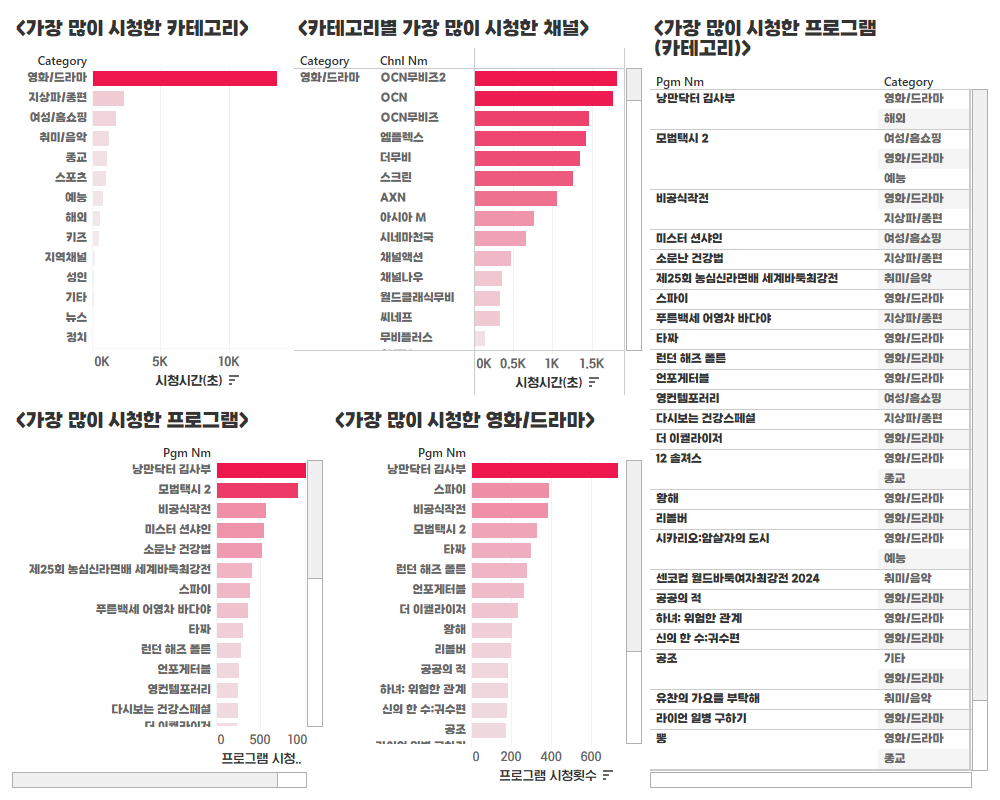

What the dashboard file says about the page in this screenshot:
{"tool":"tableau","page":{"name":"가장 많이 시청한","canvas":[1000,800],"ordinal":0},"visuals":[{"type":"worksheet","title":"가장 많이 시청한 카테고리","mark":"Automatic","rows":["category"],"cols":["chnl_nm"],"box":[8,8,281.8,392]},{"type":"worksheet","title":"가장 많이 시청한 채널","mark":"Automatic","rows":["category","chnl_nm"],"cols":["chnl_nm"],"box":[289.8,8,356.2,392]},{"type":"worksheet","title":"가장 많이 시청한 프로그램 (카테고리)","mark":"Automatic","rows":["pgm_nm","category"],"box":[646,8,346,784]},{"type":"worksheet","title":"가장 많이 시청한 프로그램","mark":"Automatic","rows":["pgm_nm"],"cols":["pgm_nm"],"box":[8,400,319,392]},{"type":"worksheet","title":"가장 많이 시청한 프로그램 (영화/드라마)","mark":"Automatic","rows":["pgm_nm"],"cols":["pgm_nm"],"box":[327,400,319,392]}]}

Visuals, with their boxes in screenshot pixels (x1, y1, x2, y2), scaled from the page's 1000x800 canvas onto the 1000x800 screenshot:
"가장 많이 시청한 카테고리" worksheet: [8, 8, 290, 400]
"가장 많이 시청한 채널" worksheet: [290, 8, 646, 400]
"가장 많이 시청한 프로그램 (카테고리)" worksheet: [646, 8, 992, 792]
"가장 많이 시청한 프로그램" worksheet: [8, 400, 327, 792]
"가장 많이 시청한 프로그램 (영화/드라마)" worksheet: [327, 400, 646, 792]
